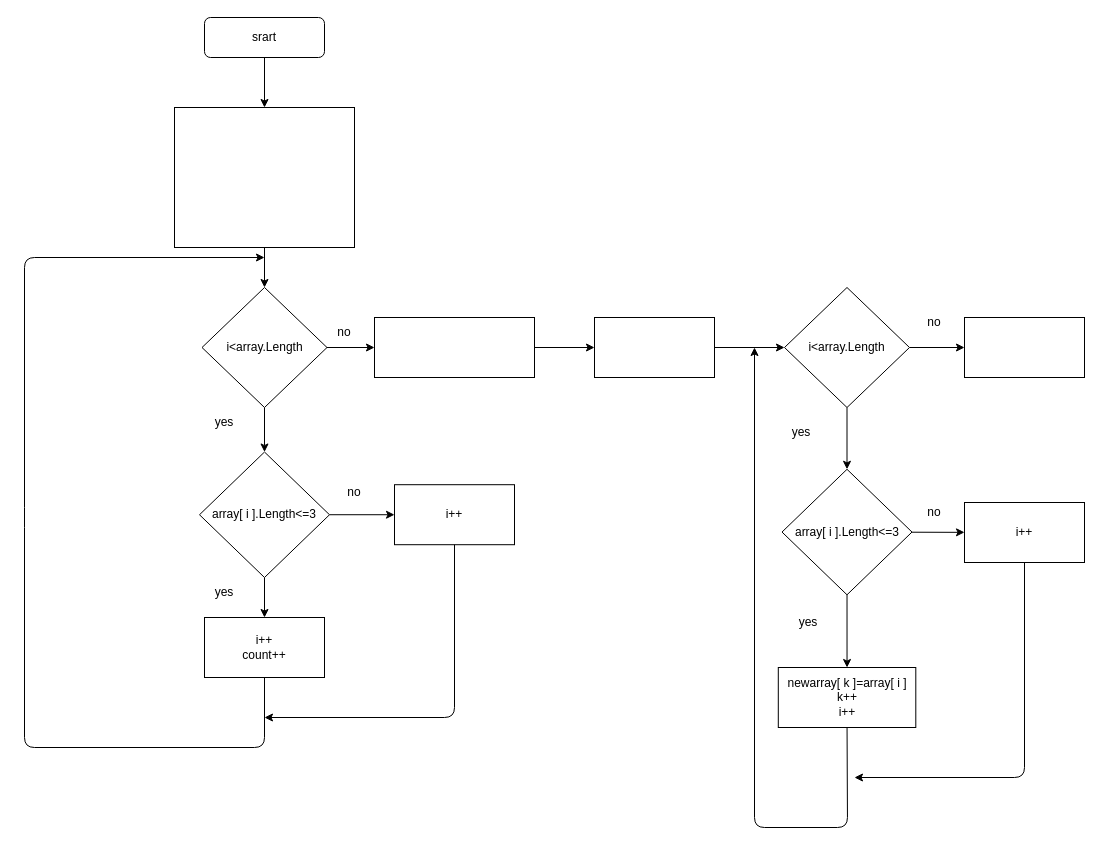
Image size: 1102x853. Some labels were removed from this diagram. Here are the shapes that lost their labels. From the top down, the centre of each, then its label:
the point at 264,177: string [ ] array count = 0 size = array.Length string [ ] newarray i=0 k=0
the point at 454,347: newarrow.Length=count
the point at 654,347: i=0
the point at 1024,347: print newarroy
